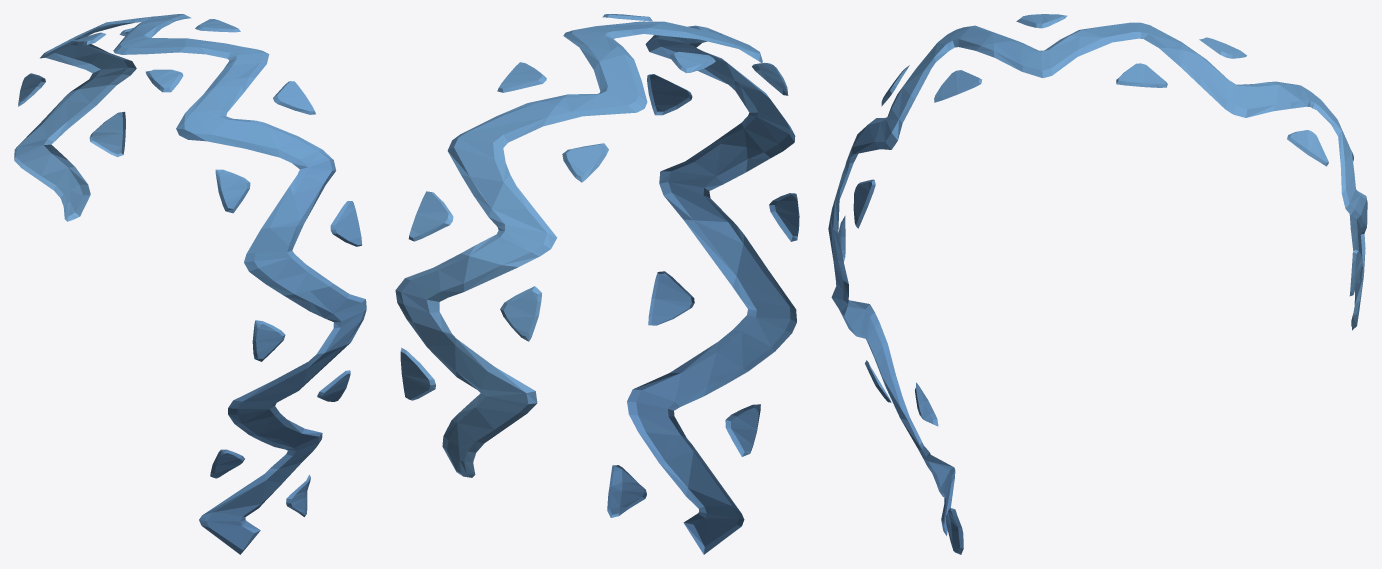
File: CharSkyKid_Hair_AP25BluePaint.glb
3 views of the same model, side by side, from view 1: azimuth 30°, elevation 25°; view 2: azimuth 150°, elevation 25°; view 3: azimuth 270°, elevation 25° (orthographic). The views are drawn at different scales.
Parts seen in each view (by area): view 1: CharSkyKid_Hair_AP25BluePaint; view 2: CharSkyKid_Hair_AP25BluePaint; view 3: CharSkyKid_Hair_AP25BluePaint.
Part boxes in pixels (x1=…): CharSkyKid_Hair_AP25BluePaint: x1=14, y1=14, x2=366, y2=554; CharSkyKid_Hair_AP25BluePaint: x1=395, y1=14, x2=799, y2=554; CharSkyKid_Hair_AP25BluePaint: x1=828, y1=14, x2=1367, y2=554.
Size of the model in its own units: 0.8486 by 2.73 by 2.62.
Materials: 1 (1 with a texture image).
